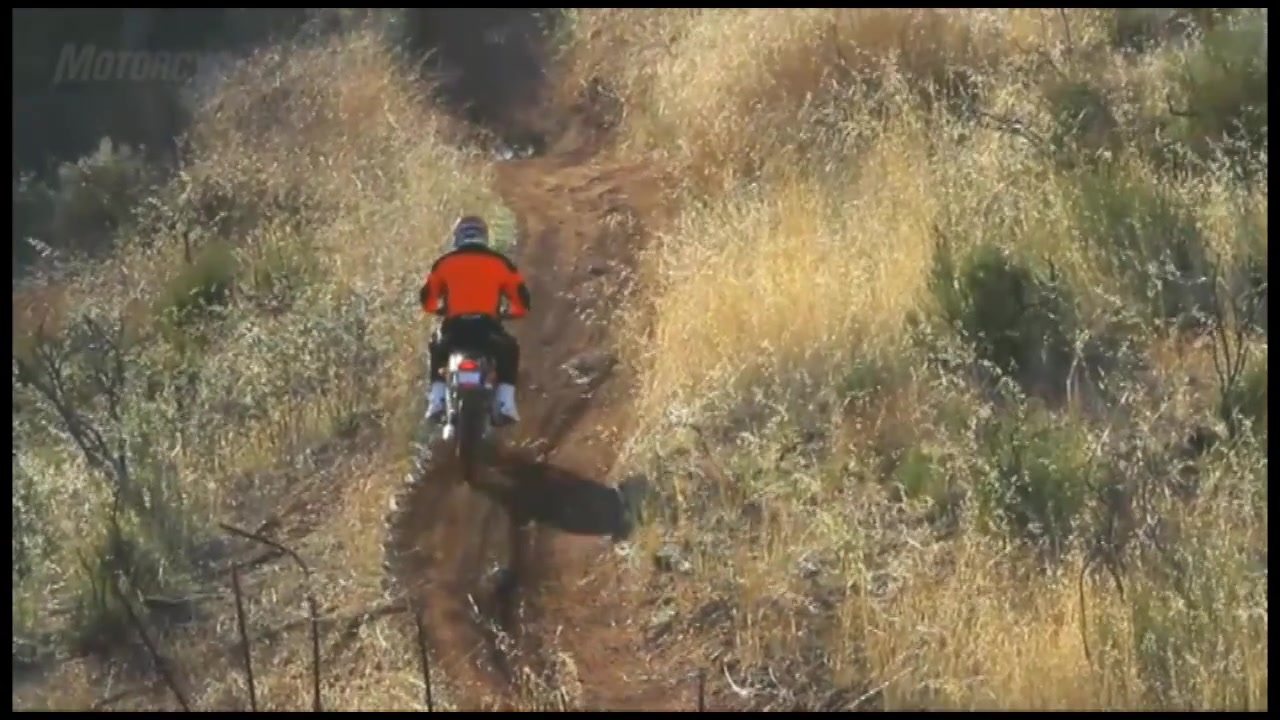motorbike: (432, 293, 517, 462)
